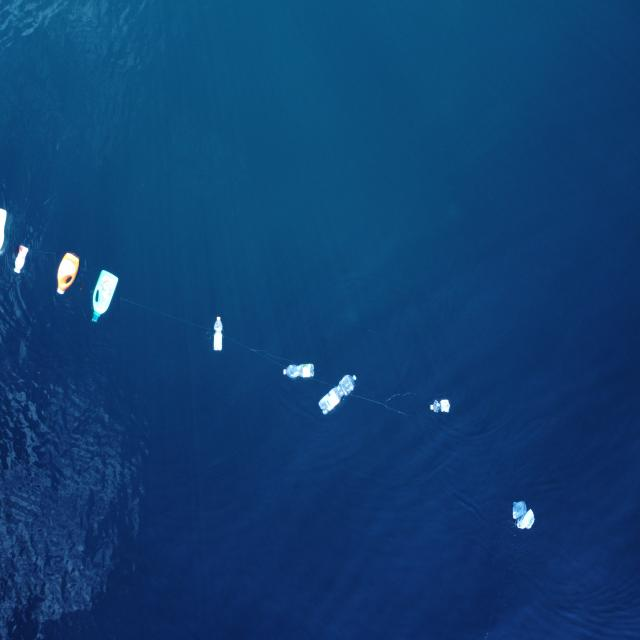bottles: (317, 372, 359, 416), (90, 268, 120, 326), (56, 251, 80, 297), (510, 498, 536, 532), (282, 361, 316, 381), (12, 244, 30, 276), (428, 394, 452, 415), (211, 315, 224, 353)
